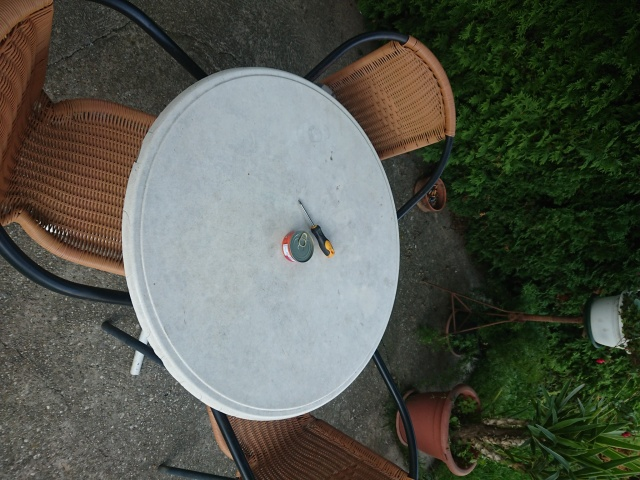Gavrilovic Pork Liver Pate 100g: (280, 228, 315, 264)
